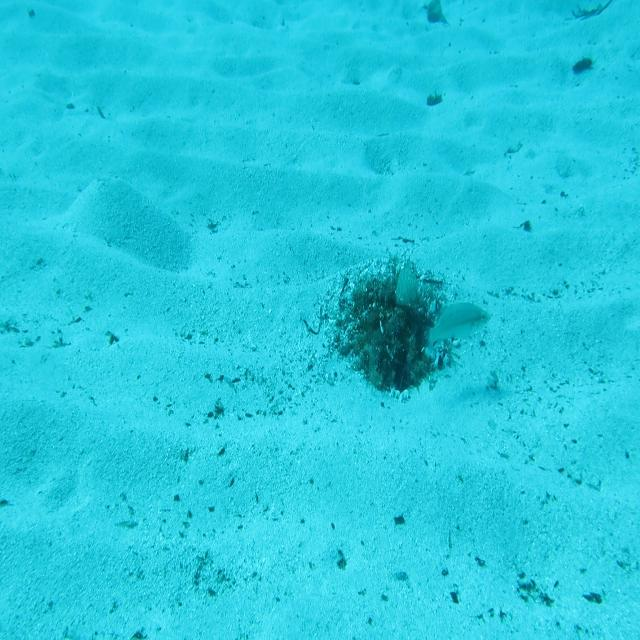NIP_CORE: (393, 255, 427, 313)
female: (426, 295, 494, 355)
nest: (332, 261, 460, 401)
